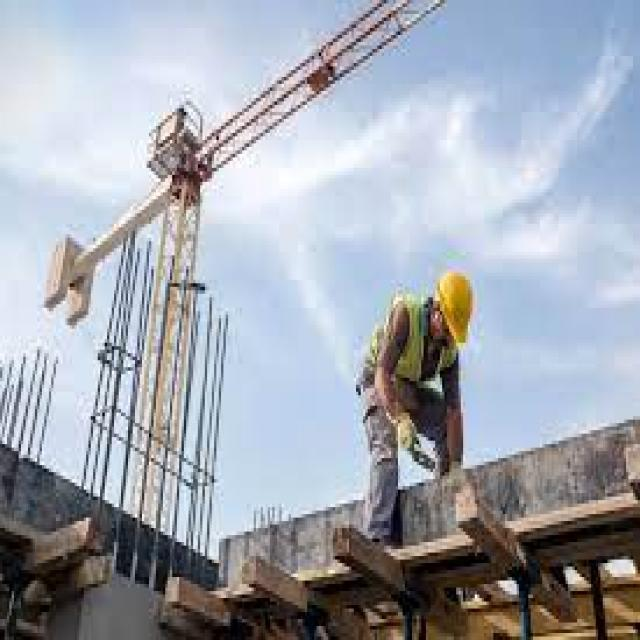Reflective-Jacket: (363, 290, 454, 427)
Safety-Helmet: (424, 255, 486, 357)
